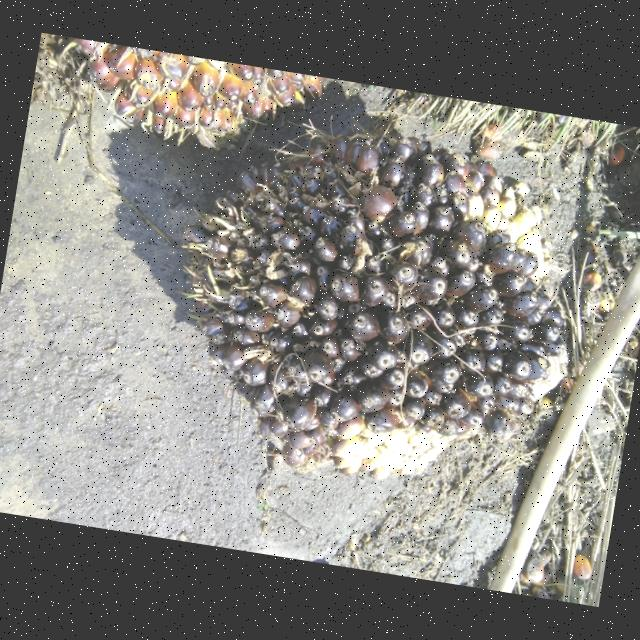Ripe: (75, 39, 334, 135)
Unripe: (179, 129, 574, 481)
